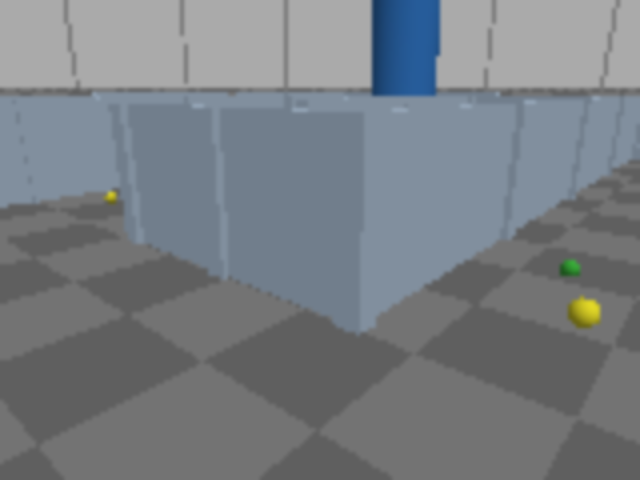puck: (558, 291, 610, 337), (556, 255, 584, 282)
